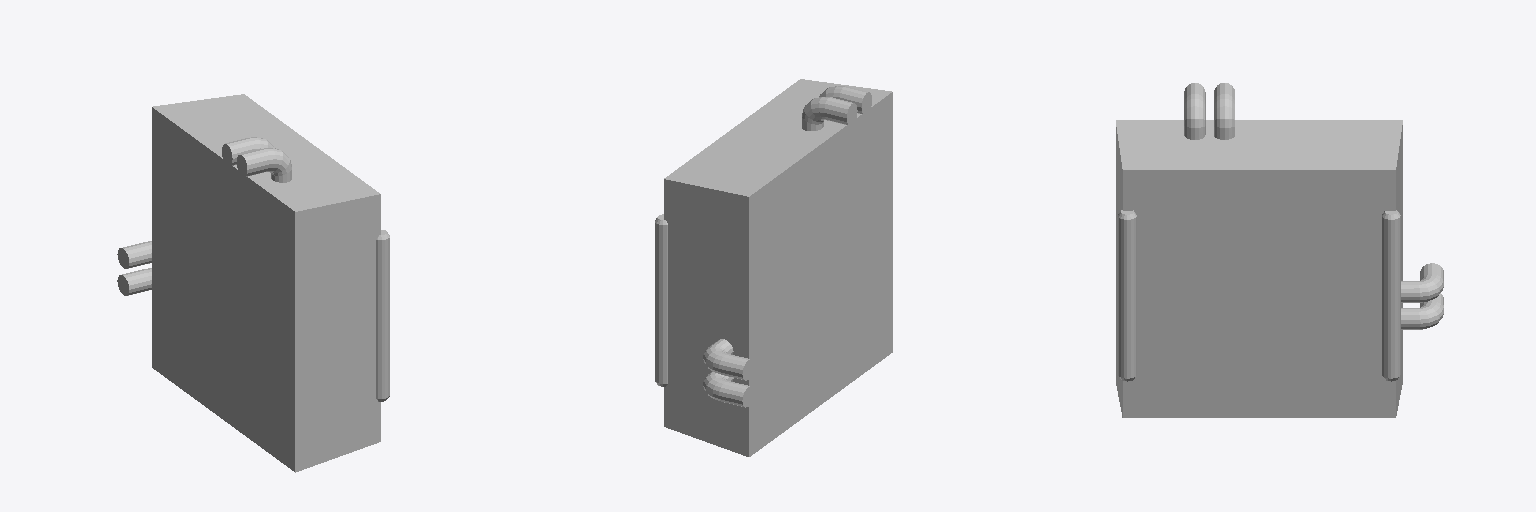
File: techbox.obj
3 views of the same model, side by side, from view 1: azimuth 30°, elevation 25°; view 2: azimuth 150°, elevation 25°; view 3: azimuth 270°, elevation 25° (orthographic).
Parts seen in each view (by area): view 1: housing, hinge_copy10, pipe3, pipe1, pipe2; view 2: housing, pipe3, hinge, pipe2, pipe1; view 3: door, housing, hinge_copy10, hinge, pipe3, pipe1, pipe2.
Part boxes in pixels (left/top/right/bottom): housing: left=152, top=94, right=380, bottom=472; hinge_copy10: left=376, top=230, right=389, bottom=401; pipe3: left=117, top=241, right=151, bottom=295; pipe1: left=237, top=148, right=291, bottom=182; pipe2: left=222, top=137, right=275, bottom=166; housing: left=664, top=79, right=892, bottom=456; pipe3: left=703, top=339, right=753, bottom=407; hinge: left=655, top=214, right=667, bottom=386; pipe2: left=802, top=97, right=857, bottom=130; pipe1: left=819, top=86, right=871, bottom=114; door: left=1133, top=180, right=1384, bottom=407; housing: left=1116, top=120, right=1402, bottom=417; hinge_copy10: left=1118, top=210, right=1136, bottom=381; hinge: left=1382, top=210, right=1400, bottom=381; pipe3: left=1401, top=263, right=1443, bottom=329; pipe1: left=1184, top=83, right=1205, bottom=139; pipe2: left=1214, top=83, right=1234, bottom=139.
Size of the model in its own units: 0.954 by 2.36 by 2.41.